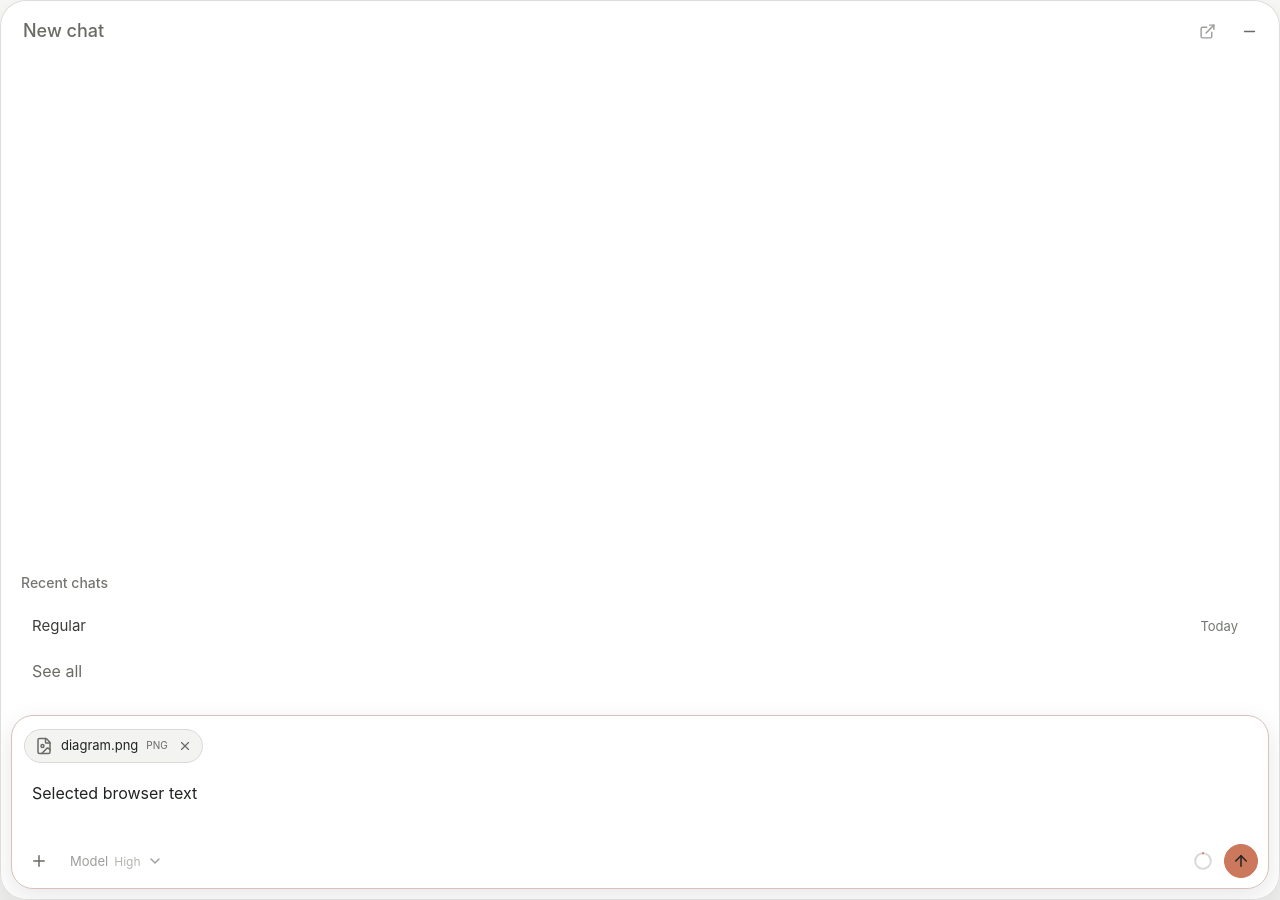
DesktopPetQuickChatWindow › places dropped text in the composer and creates a General chat on first send
Expected: the text "diagram.png" is shown, [61,736,138,755]
Expected: the text "Regular" is shown, [32,616,86,635]
Replace the text in the text box named "Message" with "Selected browser text and a question" at (640,805), box [22,774,1258,836]
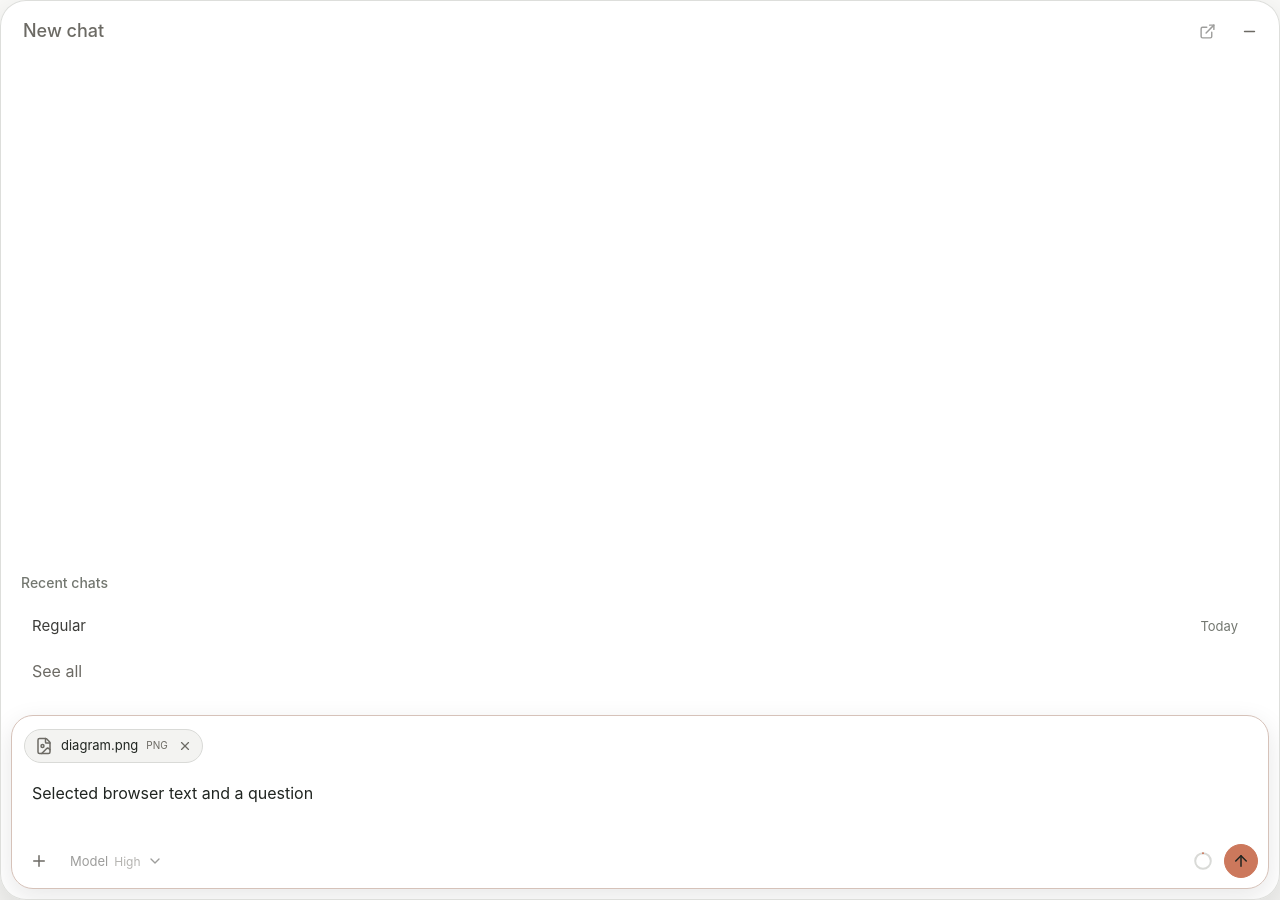
Click the button named "Send message" at (1241,861), box [1224,844,1258,878]
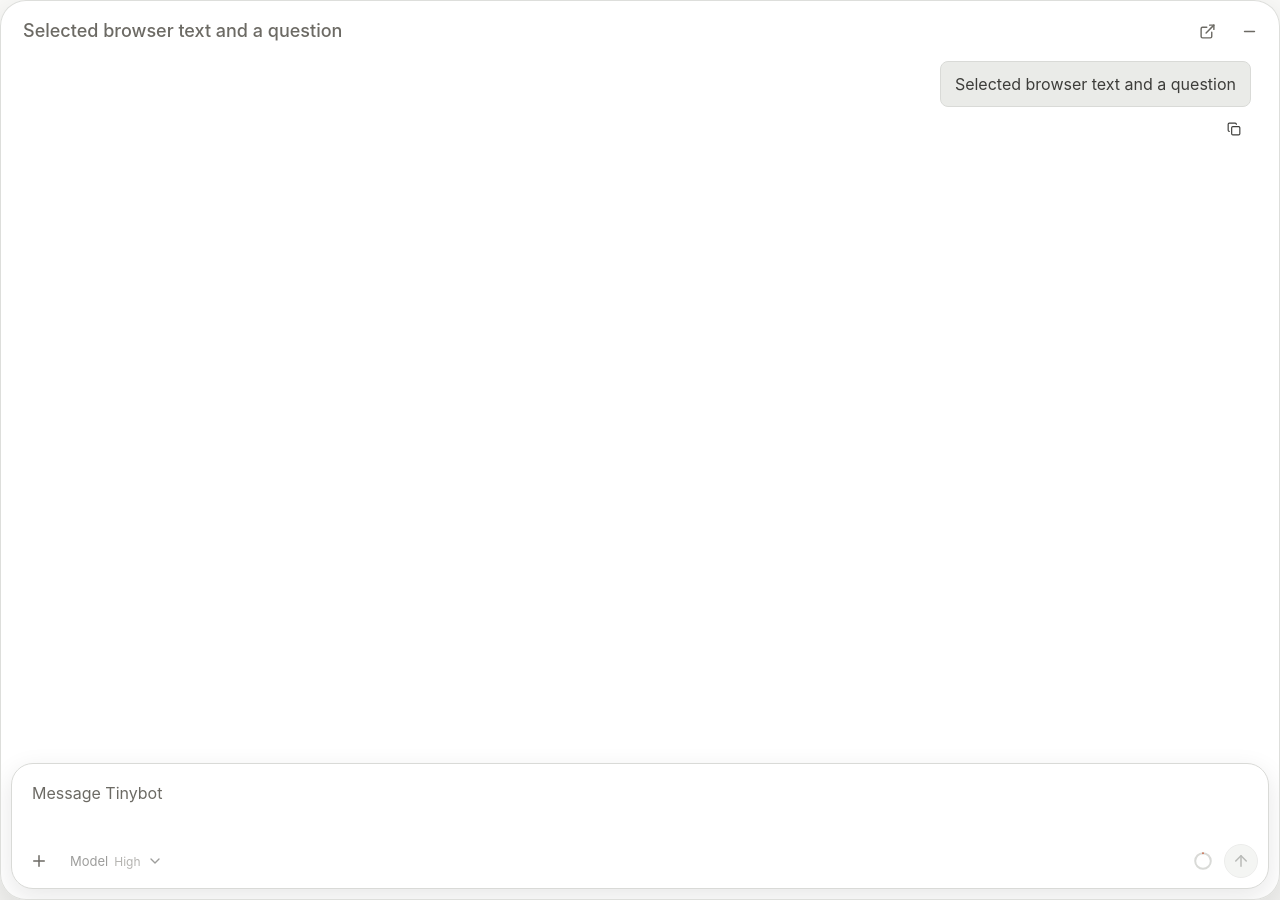
Now the text box labelled "Message" is empty, box [22,774,1258,836]
Now the text "diagram.png" is gone
